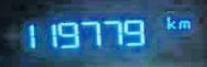1: (23, 20, 39, 49), (45, 20, 56, 48)
7: (79, 19, 101, 46), (101, 18, 121, 45)
9: (122, 17, 146, 46), (57, 19, 79, 49)
X: (165, 14, 175, 30), (177, 18, 191, 29)
